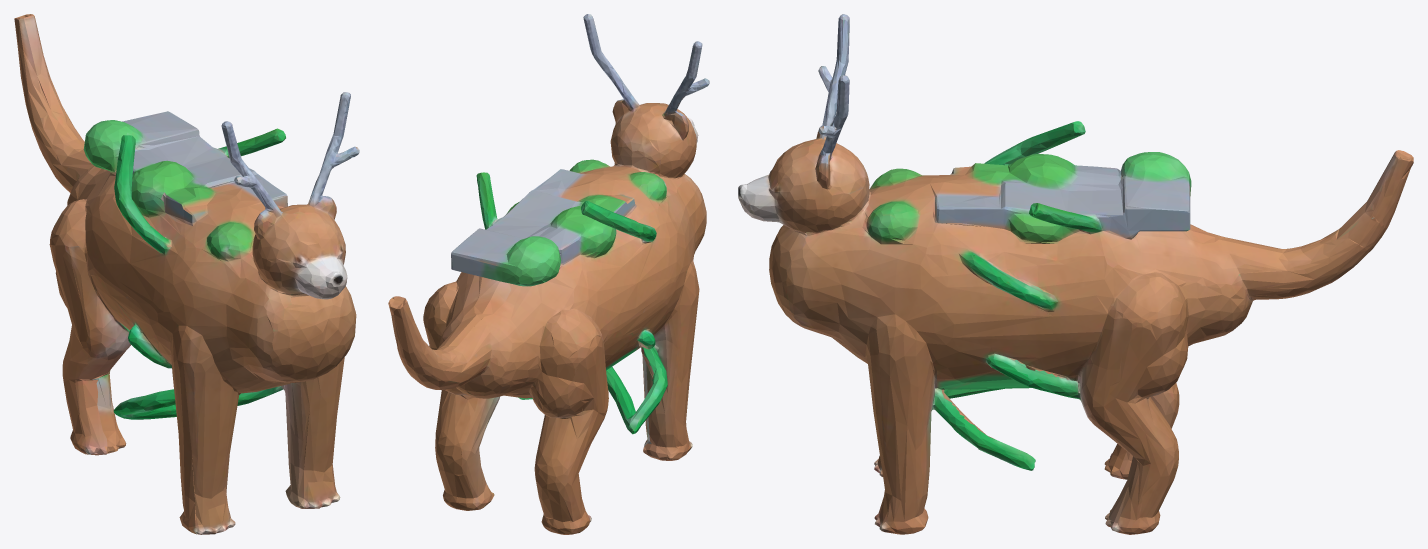
The model's file is creature-009.lod.glb.
The picture shows the model from 3 angles, left to right: view 1: azimuth 30°, elevation 25°; view 2: azimuth 150°, elevation 25°; view 3: azimuth 270°, elevation 25°; orthographic projection. The views are drawn at different scales.
Parts seen in each view (by area): view 1: tmpf2s_omzf.ply; view 2: tmpf2s_omzf.ply; view 3: tmpf2s_omzf.ply.
Part boxes in pixels (x1,y1,x2,y2): tmpf2s_omzf.ply: [14, 14, 359, 534]; tmpf2s_omzf.ply: [388, 14, 709, 534]; tmpf2s_omzf.ply: [738, 14, 1413, 534].
Size of the model in its own units: 0.671 by 1.49 by 1.99.
Materials: 1 (1 with a texture image).
